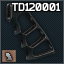AR-15 Tactical Dynamics Skeletonized pistol grip: (0, 0, 64, 64)
